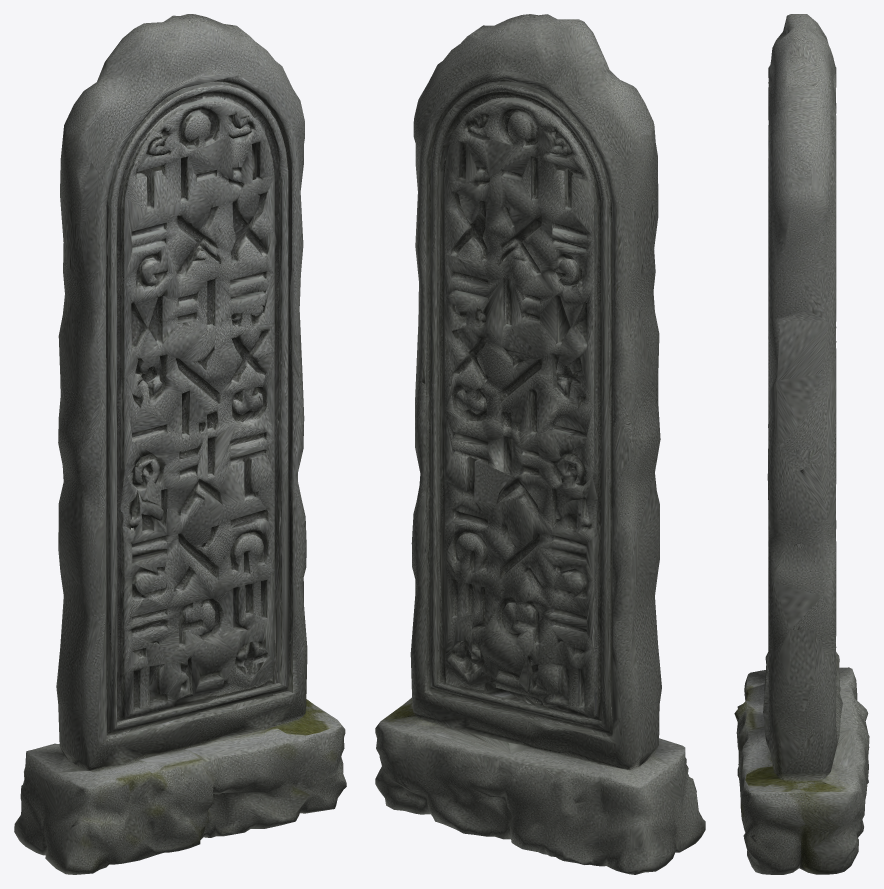
Rendered from rune_stone.glb.
3 renders of one model, left to right at view 1: azimuth 30°, elevation 25°; view 2: azimuth 150°, elevation 25°; view 3: azimuth 270°, elevation 25°, orthographic. The views are drawn at different scales.
Visible parts, largest first — view 1: rune_stone; view 2: rune_stone; view 3: rune_stone.
Boxes of the visible parts, bbox=[...] form: rune_stone: bbox=[14, 14, 346, 874]; rune_stone: bbox=[375, 14, 705, 874]; rune_stone: bbox=[734, 14, 869, 874].
Size of the model in its own units: 0.6147 by 1.65 by 0.259.
1 material, 1 textured.
